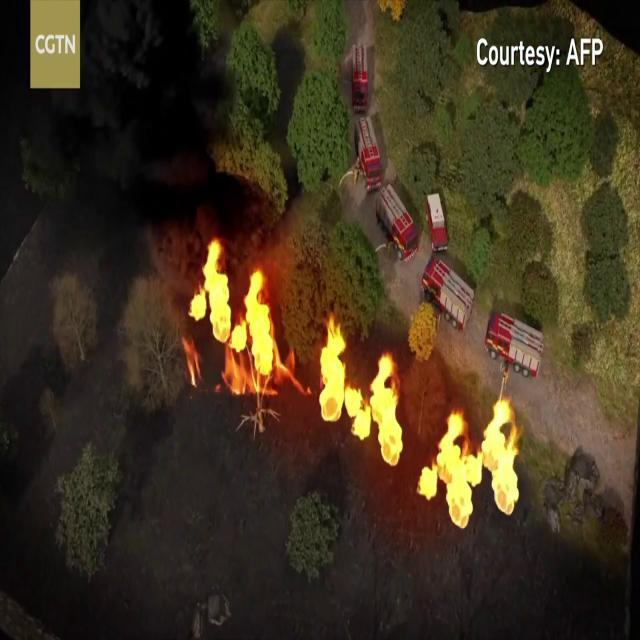Fire: (179, 229, 289, 399), (420, 382, 524, 526), (314, 306, 404, 464)
